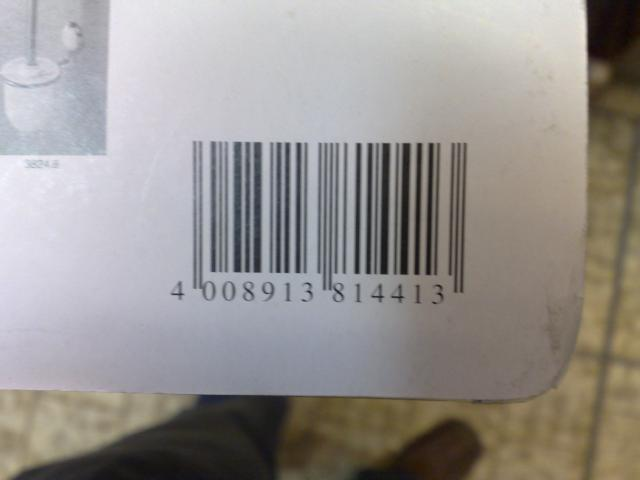Barcode: (157, 131, 473, 316)
